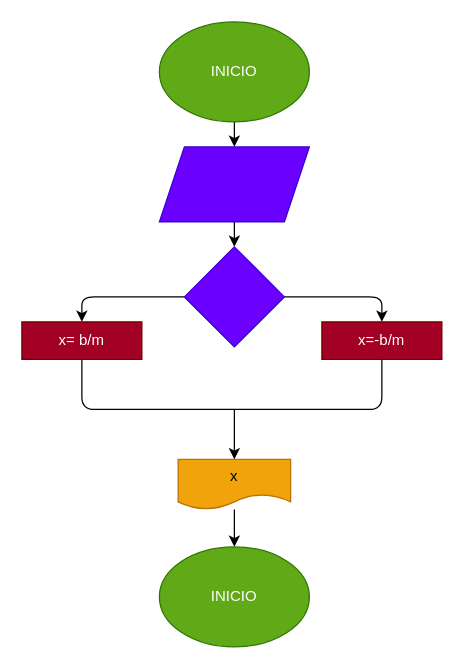
Some shapes in this 464 by 669 pixel diagram are drawn without their labels. Each missing label, with the box of its shape:
b > 0: (183, 246, 284, 347)
m,b: (158, 146, 309, 222)
